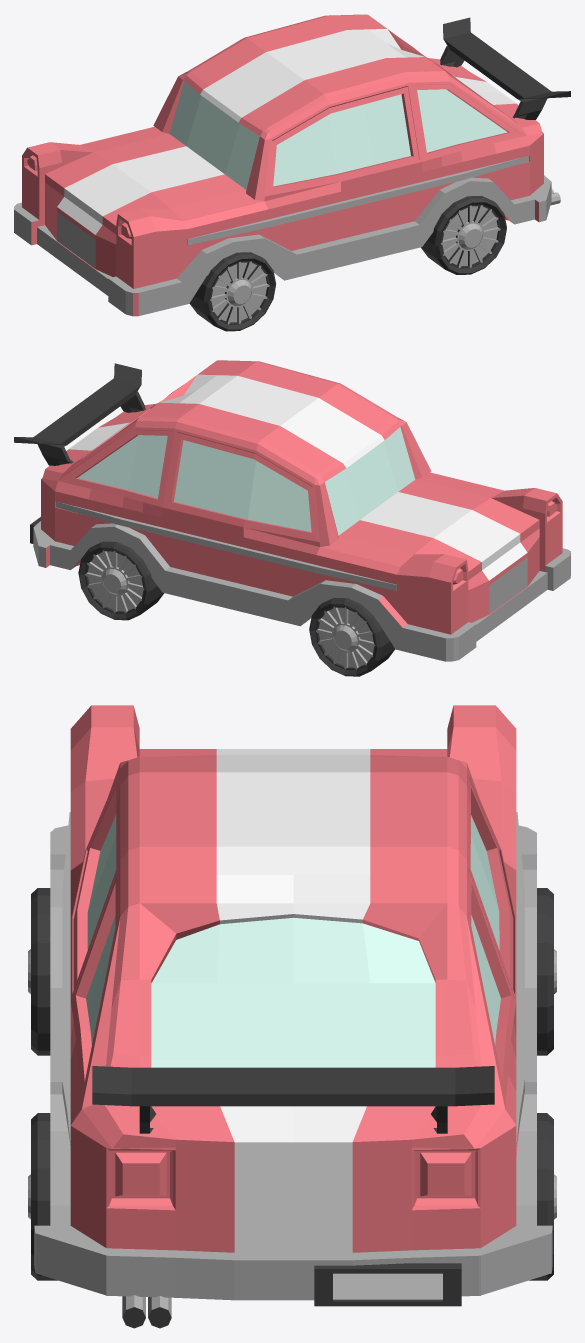
The model's file is car_modelfbx.fbx.
The picture shows the model from 3 angles, top to bottom: view 1: azimuth 30°, elevation 25°; view 2: azimuth 150°, elevation 25°; view 3: azimuth 270°, elevation 25°; orthographic projection. The views are drawn at different scales.
Parts seen in each view (by area): view 1: Куб, Цилиндр.004, Цилиндр.005, Куб.002; view 2: Куб, Цилиндр.002, Цилиндр.003, Куб.002; view 3: Куб, Куб.002, Куб.001, Цилиндр.004, Цилиндр.002, Цилиндр.005, Цилиндр.003.
Part boxes in pixels (box(x1,y1,x2,y2)): Куб: box(14, 14, 551, 316); Цилиндр.004: box(189, 252, 275, 331); Цилиндр.005: box(421, 195, 506, 274); Куб.002: box(440, 17, 570, 119); Куб: box(33, 360, 570, 661); Цилиндр.002: box(309, 597, 395, 676); Цилиндр.003: box(78, 541, 164, 620); Куб.002: box(14, 363, 145, 465); Куб: box(34, 705, 552, 1300); Куб.002: box(92, 1066, 494, 1133); Куб.001: box(314, 1263, 461, 1306); Цилиндр.004: box(28, 888, 50, 1055); Цилиндр.002: box(537, 888, 556, 1055); Цилиндр.005: box(28, 1113, 57, 1280); Цилиндр.003: box(529, 1113, 556, 1280).
Bounding box in the file's own units: 1240 × 509 × 630.
